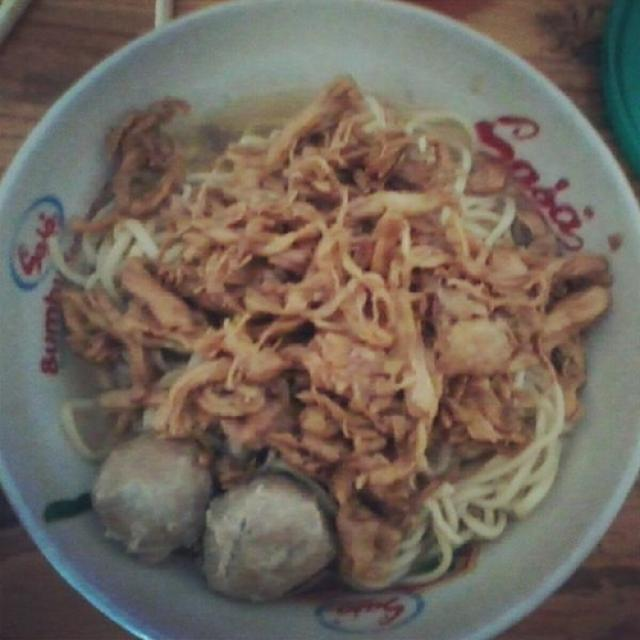面条主食: (26, 23, 606, 604)
